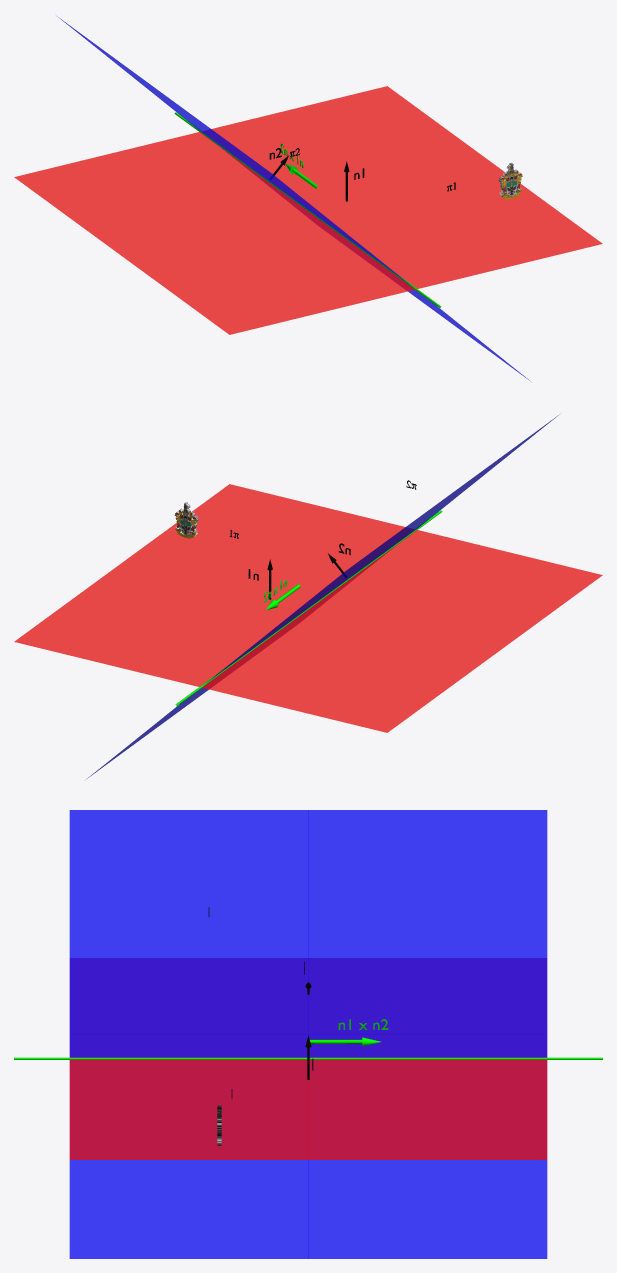
Rendered from 3.4.2.b intersectplanes_e.glb.
3 renders of one model, top to bottom at view 1: azimuth 30°, elevation 25°; view 2: azimuth 150°, elevation 25°; view 3: azimuth 270°, elevation 25°, orthographic. The views are drawn at different scales.
Visible parts, largest first — view 1: f, eq1, g, Mesh_0.002; view 2: f, eq1, g, Mesh_0.002; view 3: eq1_2, f, g.
Part boxes in pixels (x1,y1,x2,y2): f: (14,86,602,334); eq1: (57,16,530,381); g: (174,112,441,308); Mesh_0.002: (498,162,522,199); f: (14,484,602,732); eq1: (86,414,559,779); g: (175,510,442,706); Mesh_0.002: (174,502,198,538); eq1_2: (69,810,547,1258); f: (69,958,547,1159); g: (14,1057,602,1059).
Bounding box in the file's own units: 0.1948 × 0.1377 × 0.2401.
Materials: 10 (1 with a texture image).
